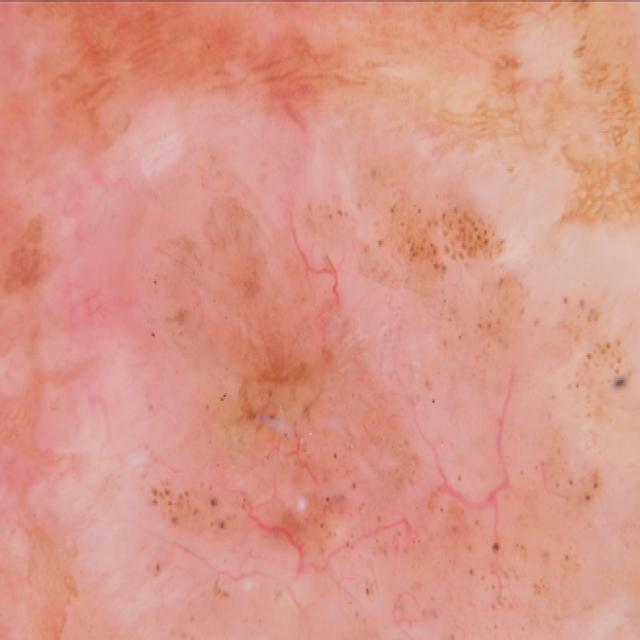Carcinoma: (106, 160, 638, 604)
